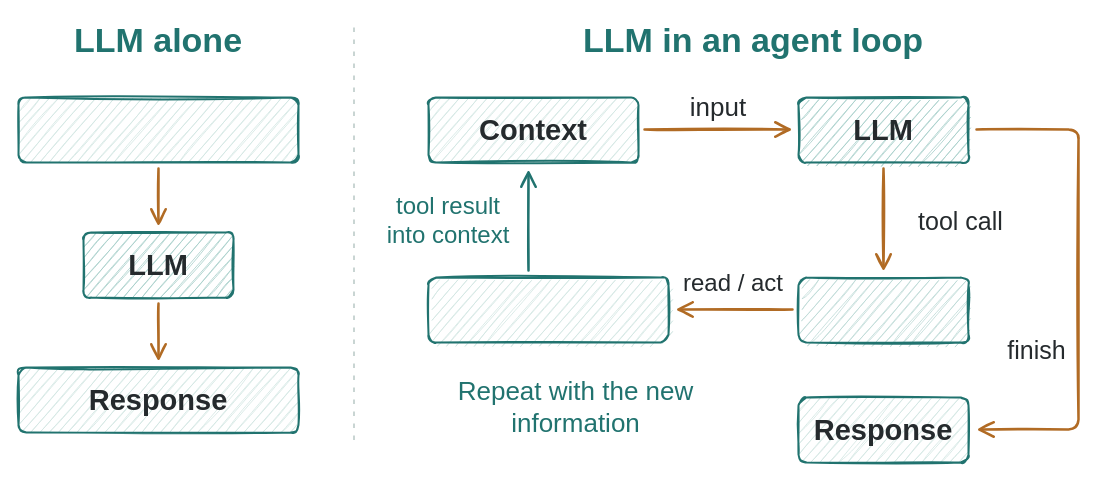
Image size: 1111x480. Some labels were removed from this diagram. The centre of each missing label's shape, as x and y in pixels:
"Environment" belongs at (x=548, y=309).
"Prompt + context" belongs at (x=158, y=129).
"Tool" belongs at (x=883, y=309).
